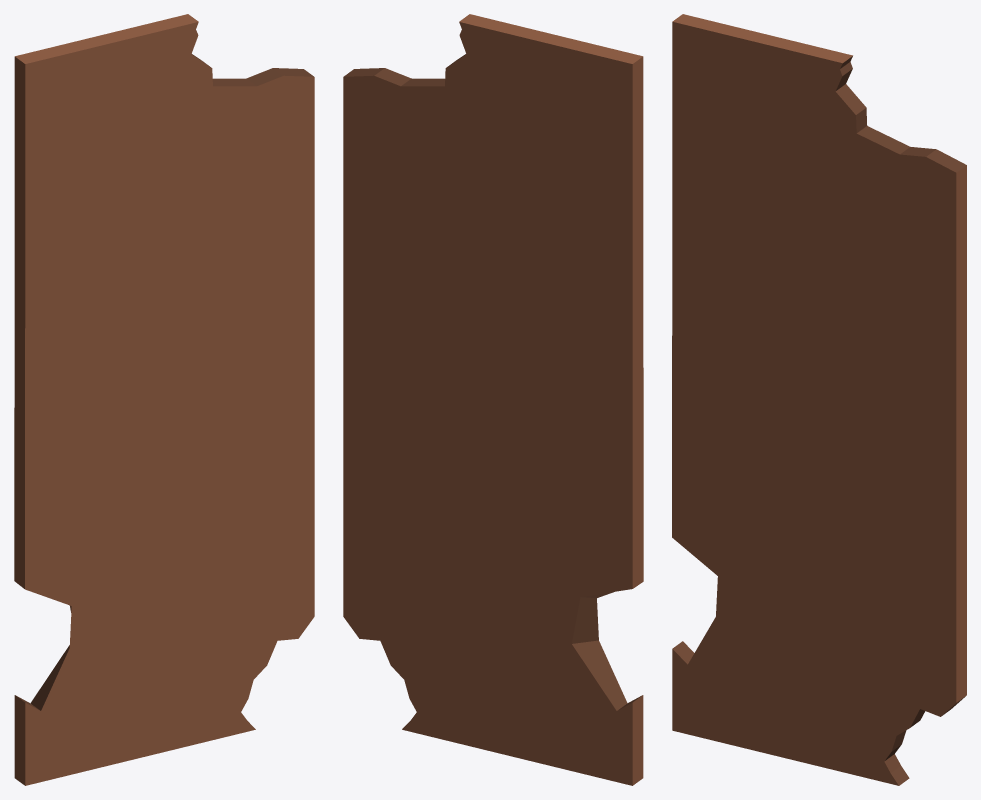
The model's file is Door02.fbx.
The picture shows the model from 3 angles, left to right: view 1: azimuth 30°, elevation 25°; view 2: azimuth 150°, elevation 25°; view 3: azimuth 330°, elevation 25°; orthographic projection.
Visible parts, largest first — view 1: Door02; view 2: Door02; view 3: Door02.
Part boxes in pixels (x1,y1,x2,y2): Door02: (14,14,314,785); Door02: (343,14,643,785); Door02: (672,14,966,785).
Size of the model in its own units: 78.08 by 186 by 5.
